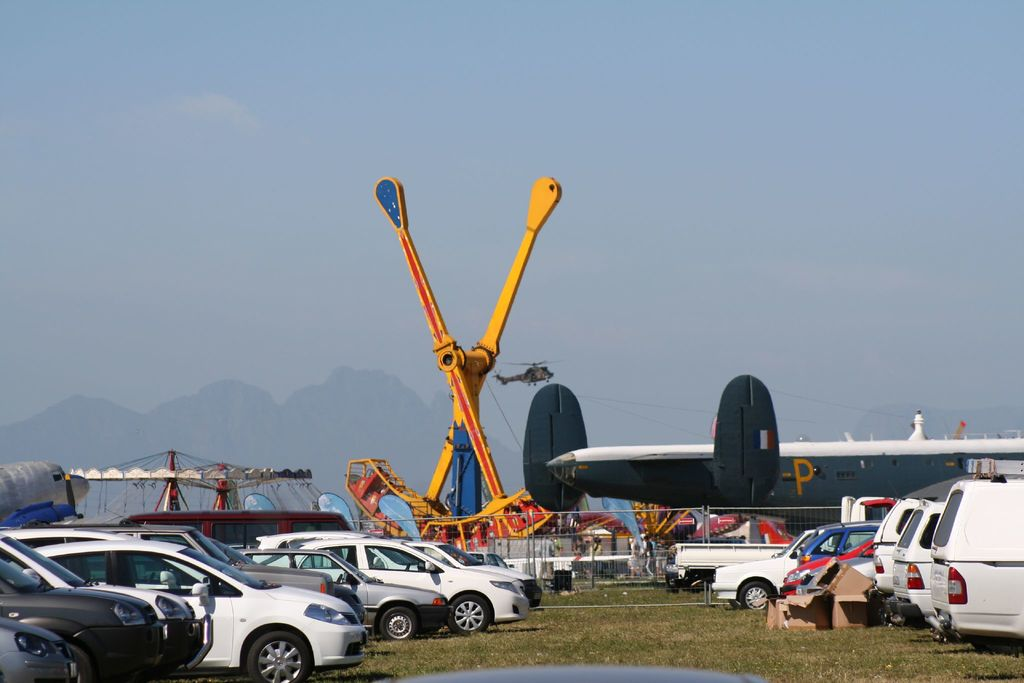Car: (0, 523, 543, 682), (669, 477, 1023, 633)
